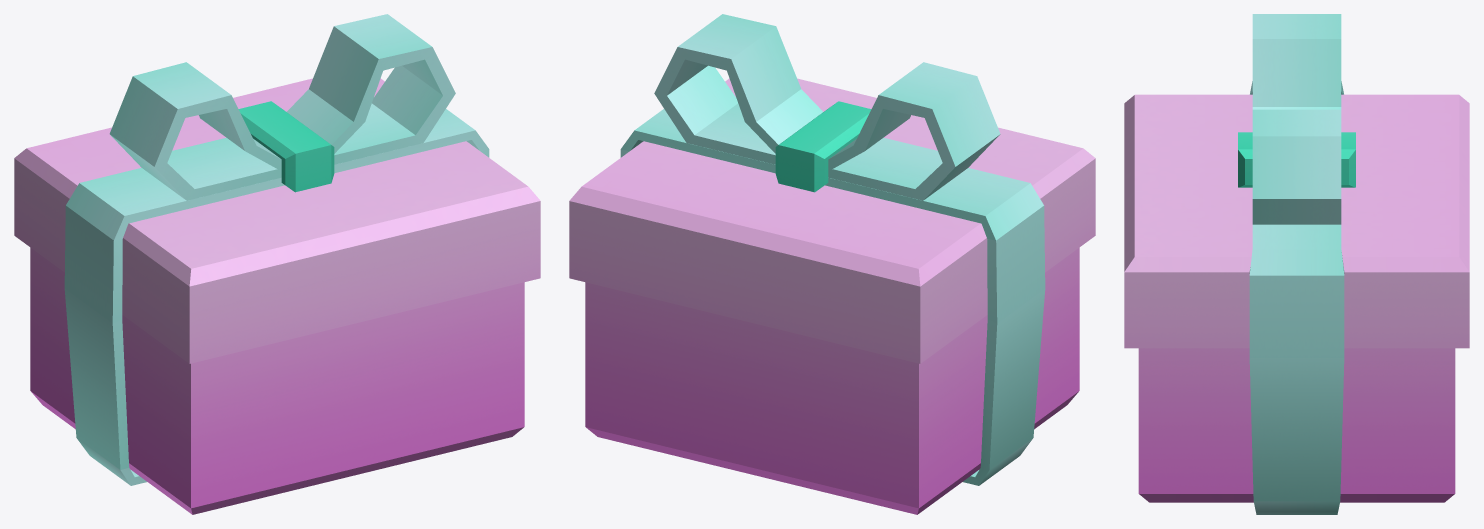
The picture shows the model from 3 angles, left to right: view 1: azimuth 30°, elevation 25°; view 2: azimuth 150°, elevation 25°; view 3: azimuth 270°, elevation 25°; orthographic projection.
Parts seen in each view (by area): view 1: smMAT0110022; view 2: smMAT0110022; view 3: smMAT0110022.
Part boxes in pixels (x1=…): smMAT0110022: x1=14, y1=14, x2=540, y2=514; smMAT0110022: x1=569, y1=14, x2=1095, y2=514; smMAT0110022: x1=1124, y1=14, x2=1469, y2=514.
Bounding box in the file's own units: 77.12 × 71.89 × 62.03.
1 material, 1 textured.
